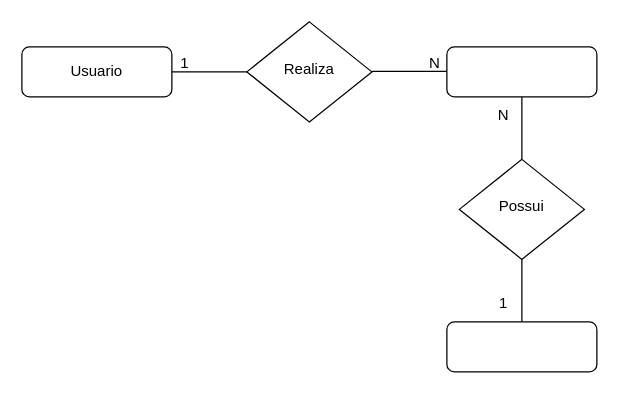
The diagram is 619 pixels wide and 394 high, and some of its shapes have lost their labels. The box of each missing label's shape, as (x1, y1, x2, y2) in pixels:
Evento: (446, 321, 597, 372)
Inscricao: (446, 46, 597, 97)
